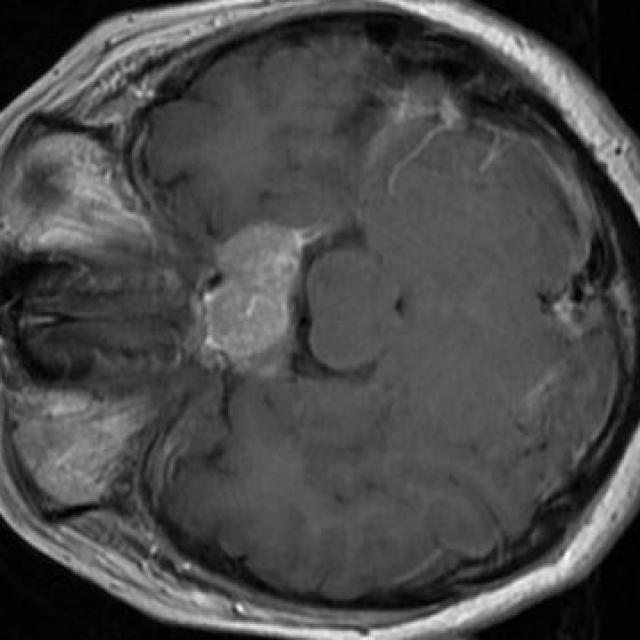pituitary: (207, 223, 303, 360)
